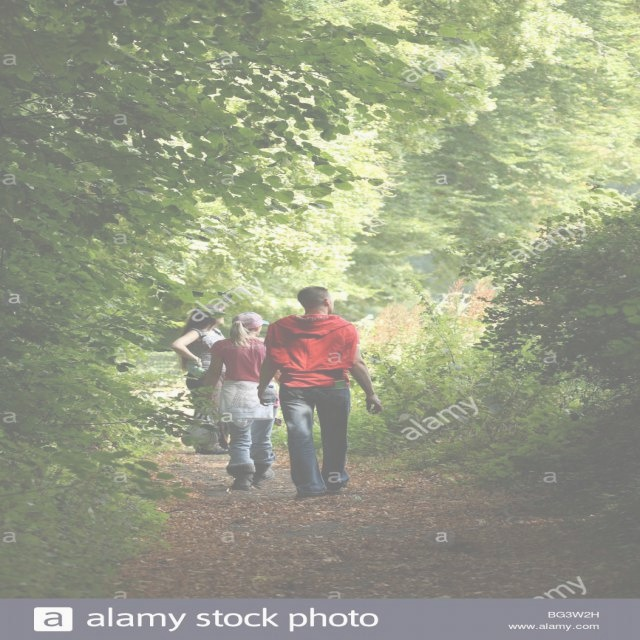pessoa: (254, 284, 387, 501), (195, 311, 280, 492), (170, 303, 230, 455)
